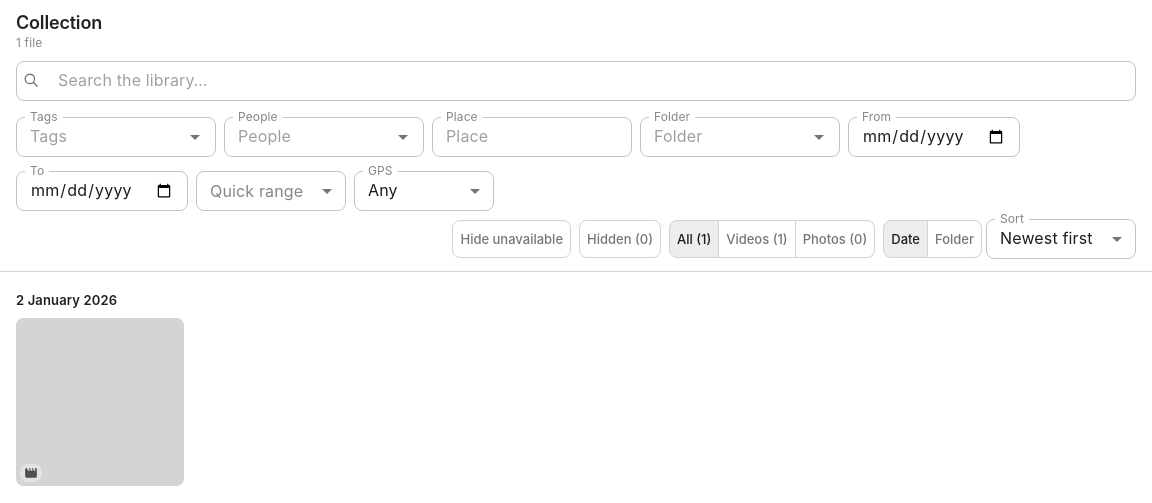
Test case: LibraryView › names the active chip in the no-match copy
Replace the text in the field labelled "Any" with "without": (424, 191) x1=354 y1=171 x2=494 y2=211
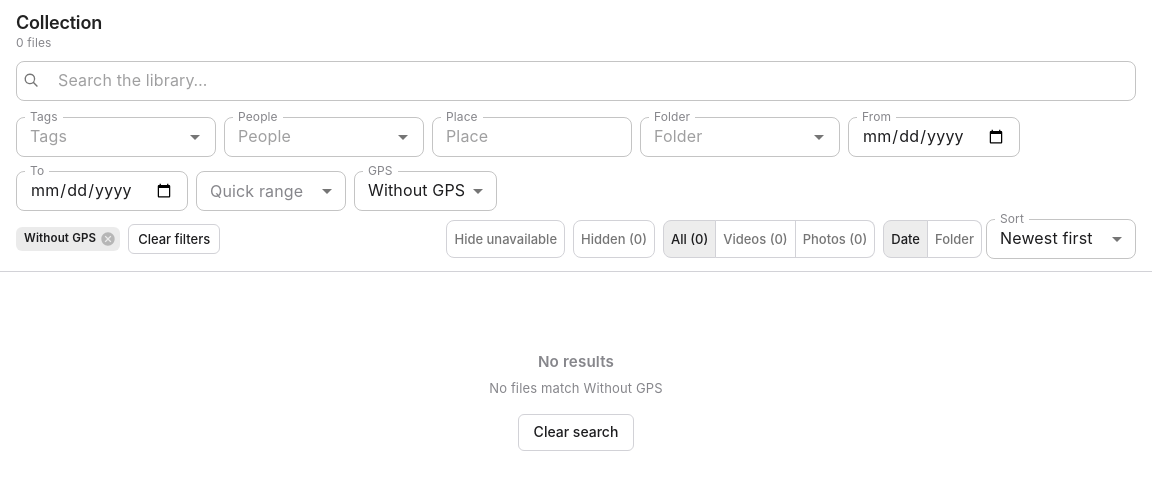
Check: the element with test id "library-no-match" is shown, box x1=489 y1=352 x2=663 y2=451
Check: the text with test id "library-no-match-body" shows "Without GPS", box x1=489 y1=380 x2=663 y2=396
